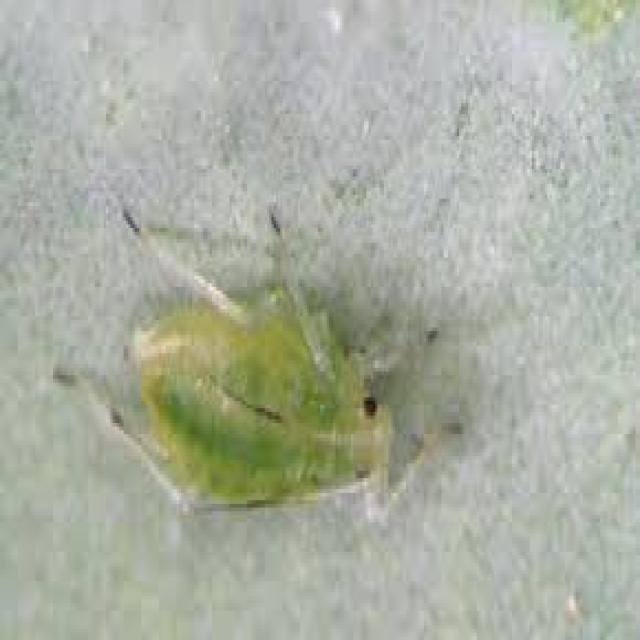aphid: (50, 174, 482, 584)
